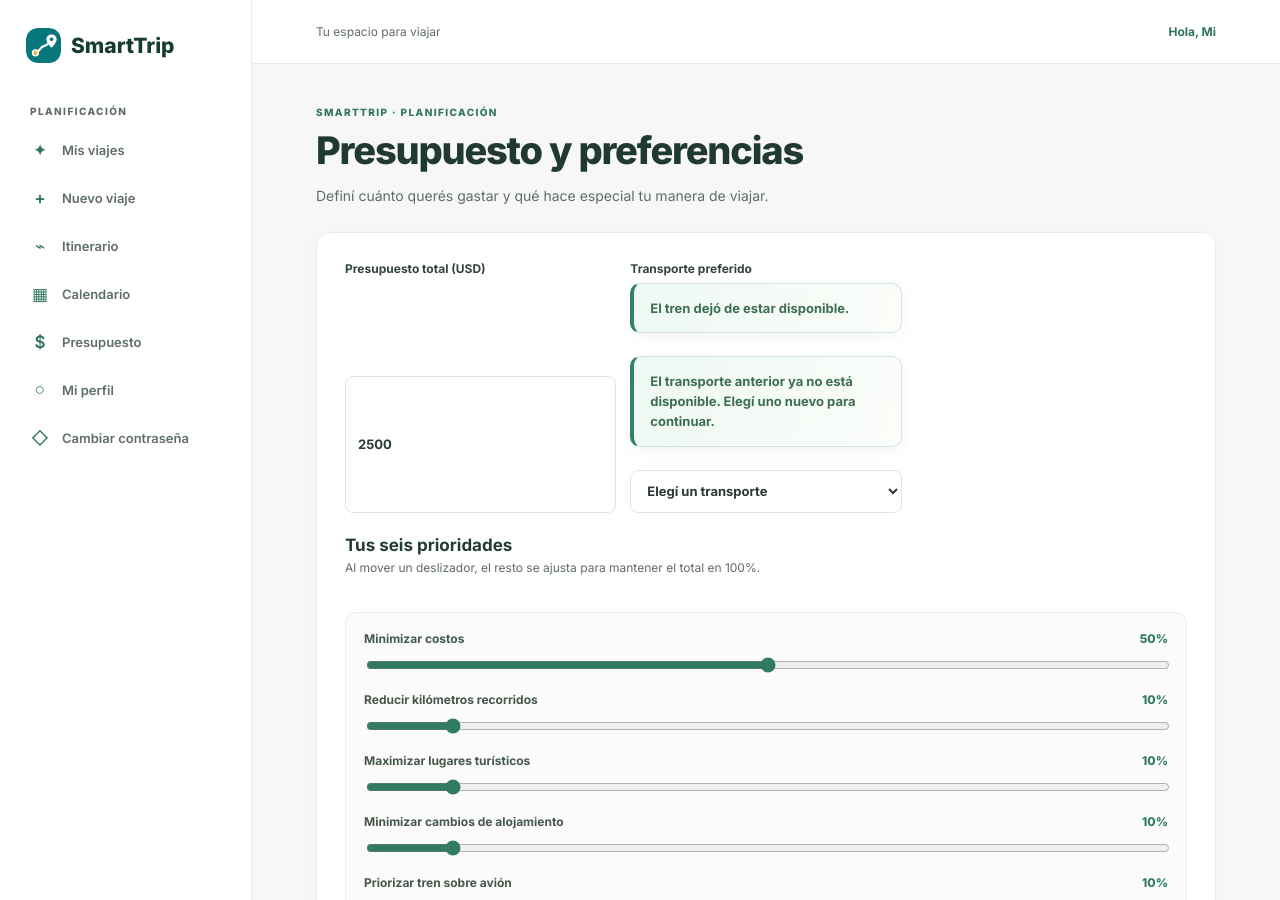
Test: BudgetPreferences › avisa cuando el transporte guardado ya no está disponible
Check: the text "El tren dejó de estar disponible." is shown, box [630,283,902,333]
Check: the text "El transporte anterior ya no está disponible. Elegí uno nuevo para continuar." is shown, box [630,356,902,446]
Select "Tren" in the dropdown: x=766, y=491 [630,470,902,513]
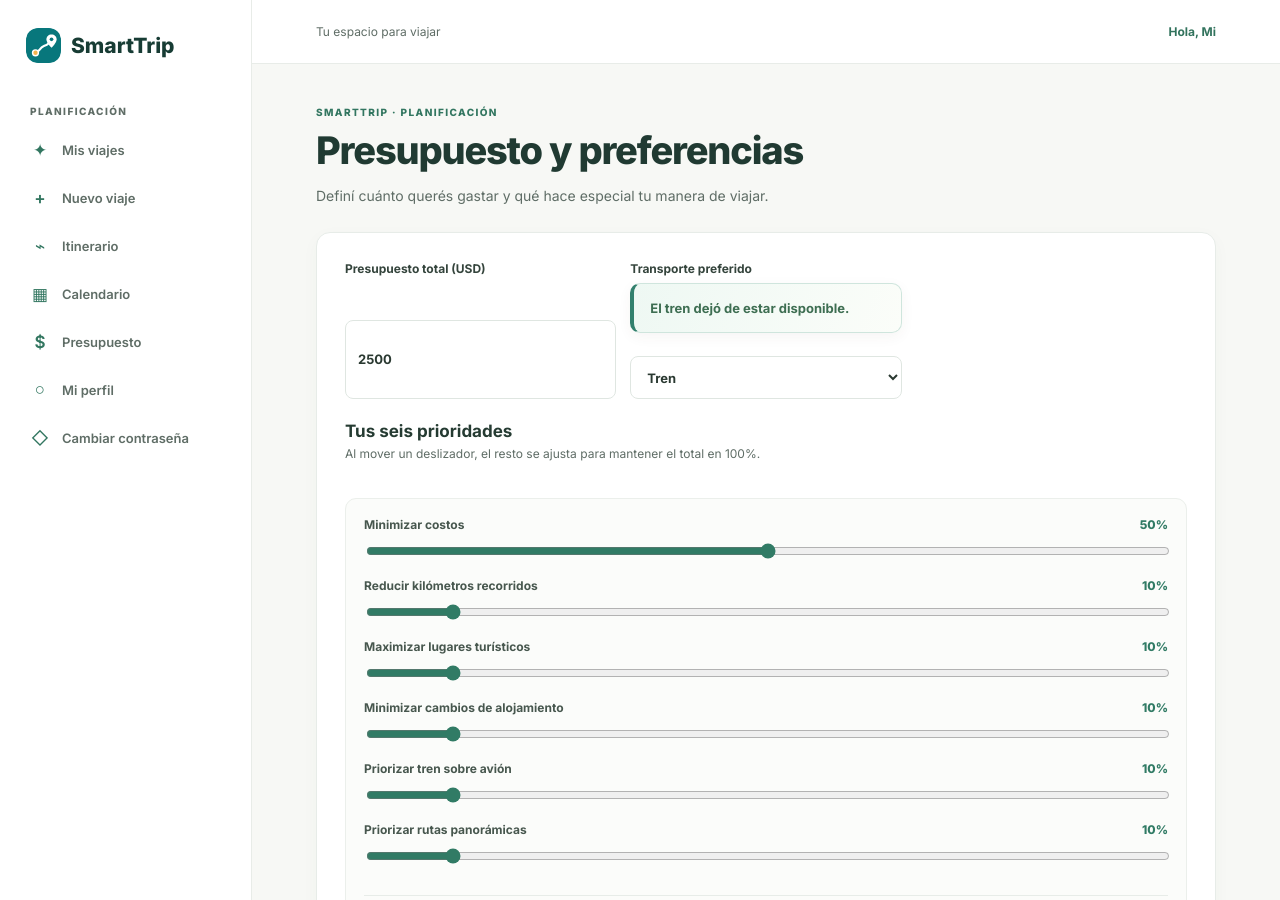
Check: the text "El transporte anterior ya no está disponible. Elegí uno nuevo para continuar." is gone
